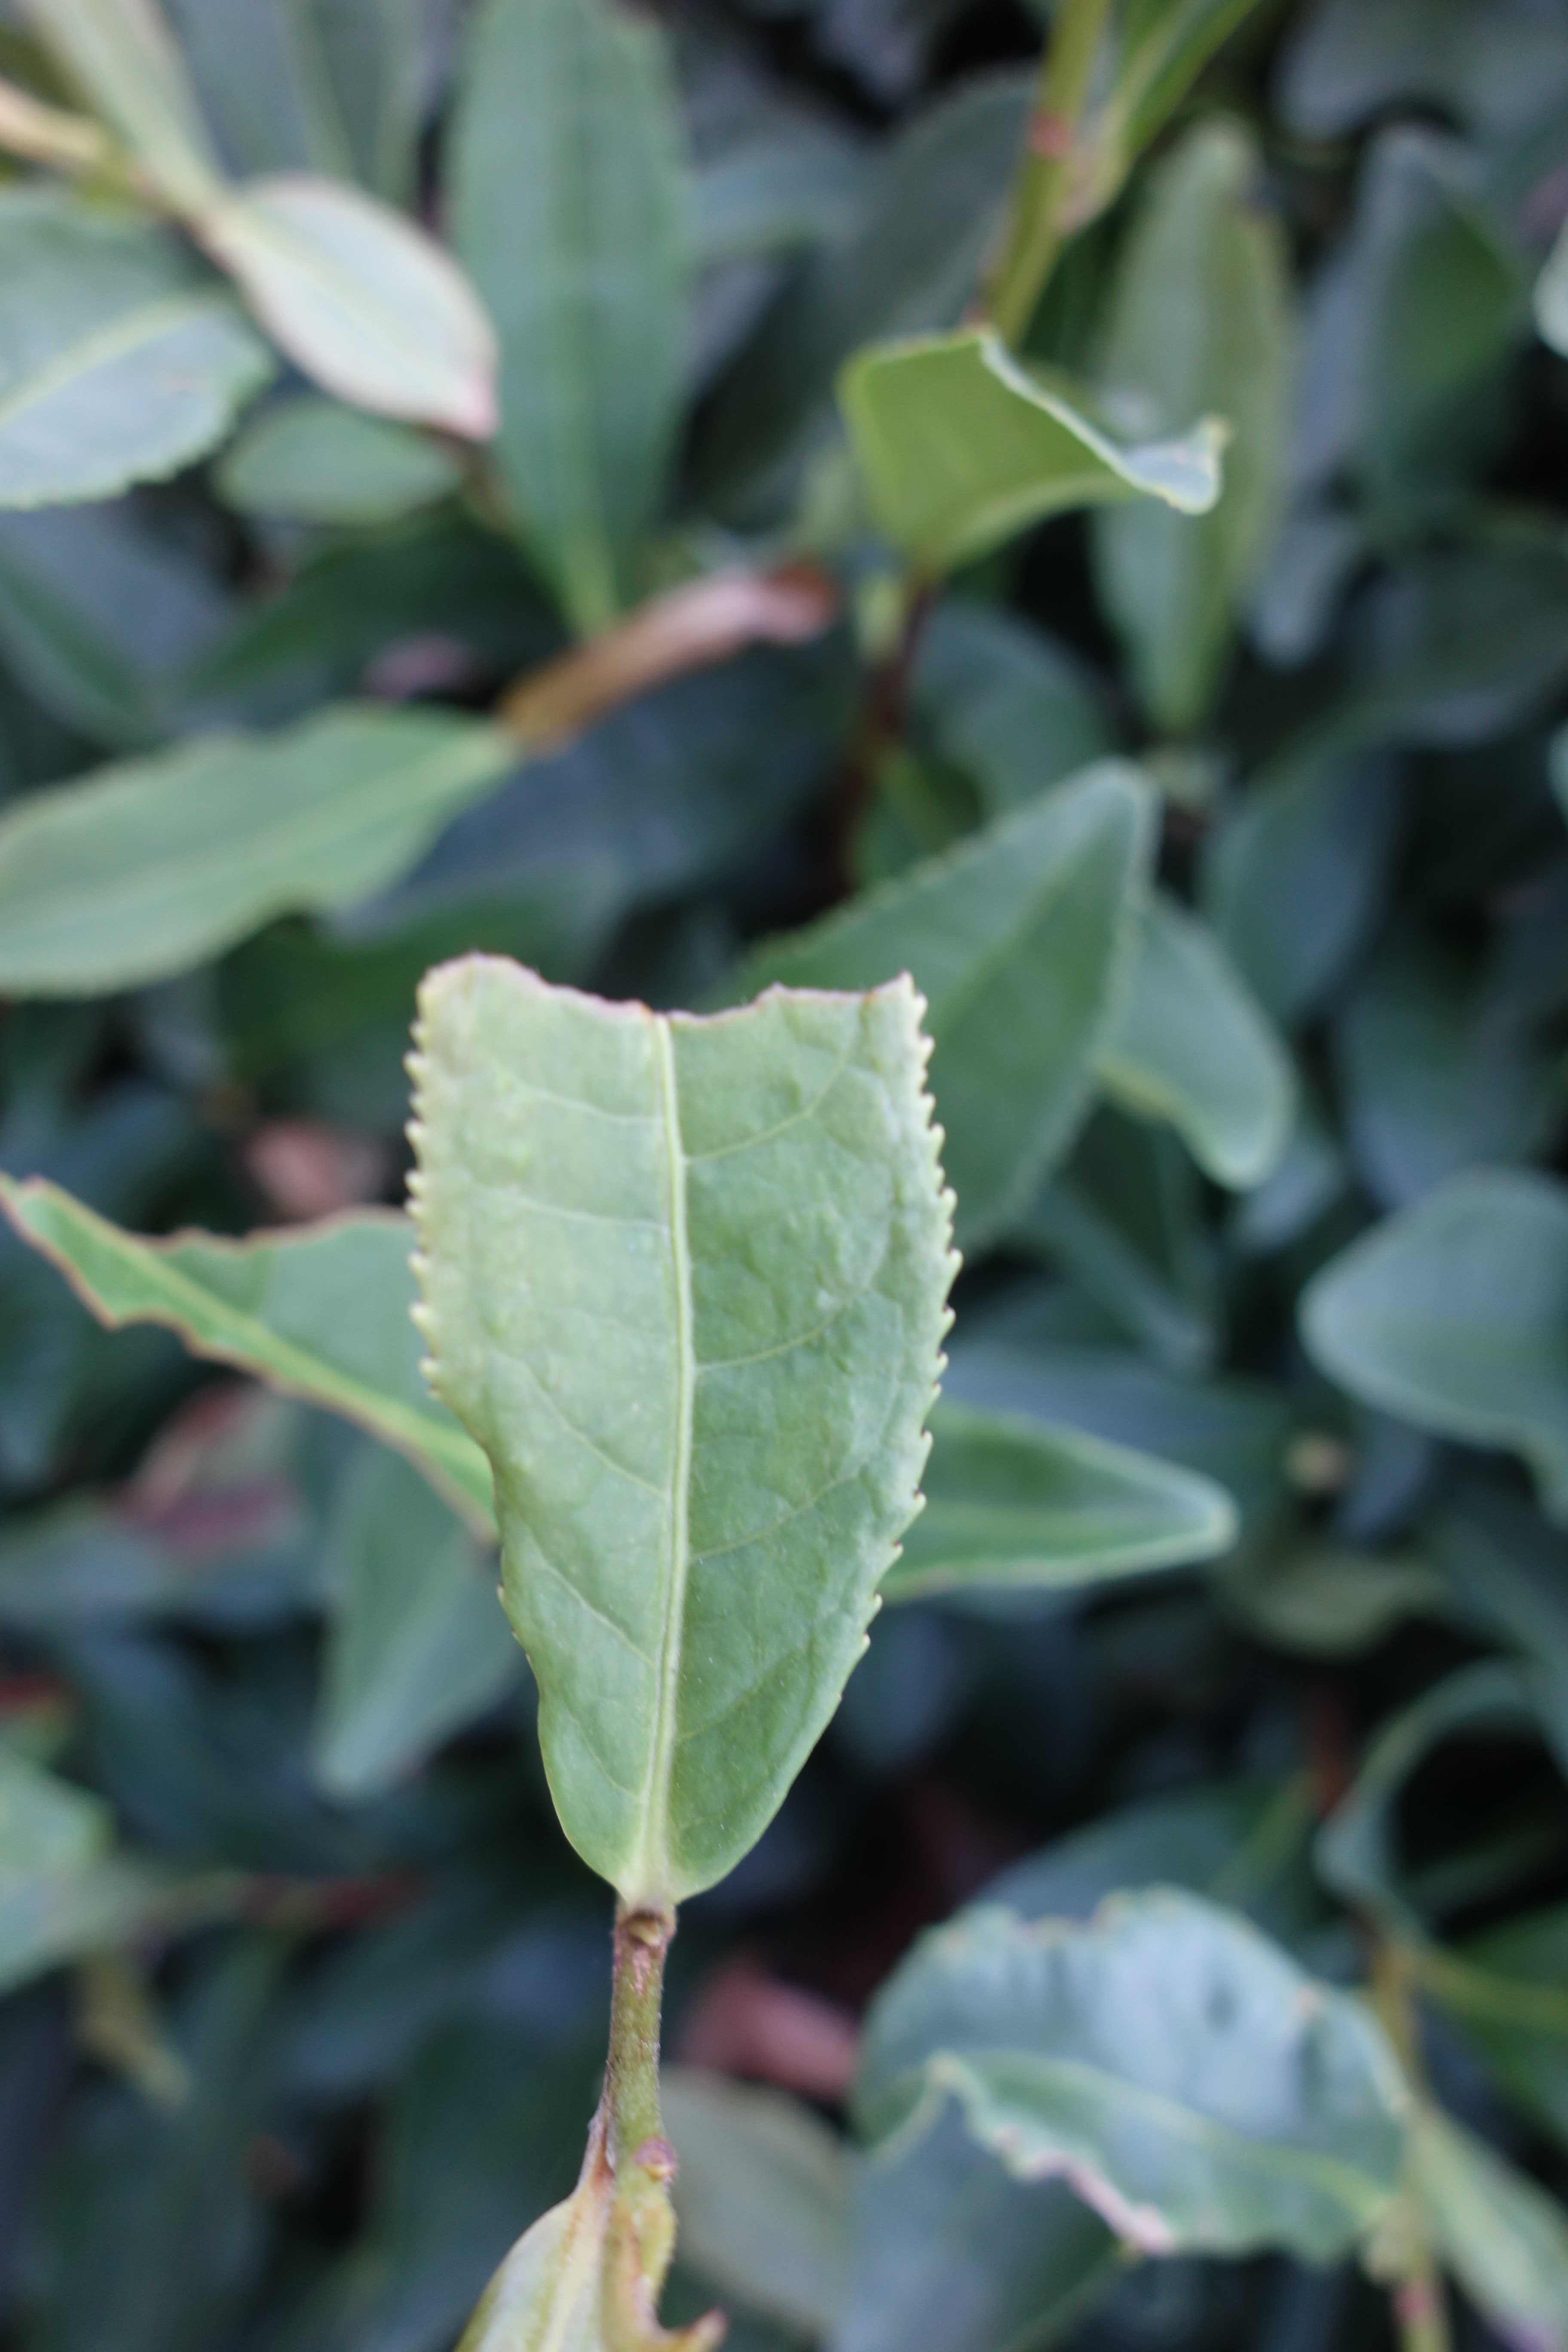chihuo_low: (399, 954, 966, 1921)
